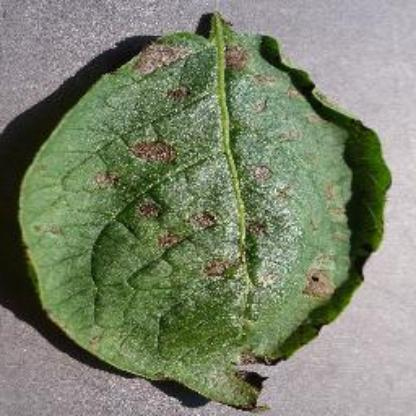Early-Blight: (14, 8, 410, 416)
